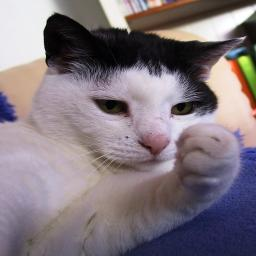catnose: (134, 136, 172, 158)
